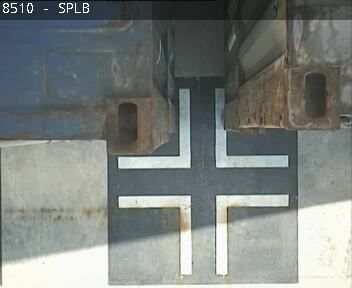groundmarker_1: (117, 192, 288, 274), (118, 88, 289, 169)
